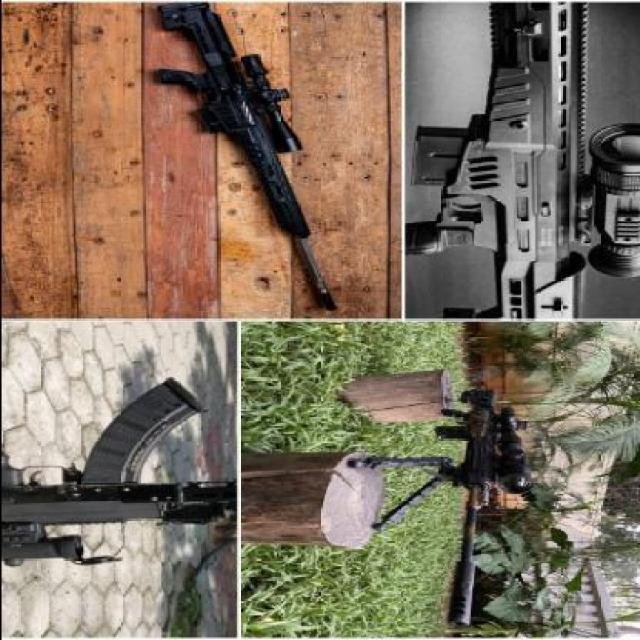Rifle: (403, 1, 639, 319), (155, 0, 340, 308), (0, 376, 237, 564), (434, 392, 532, 625)
